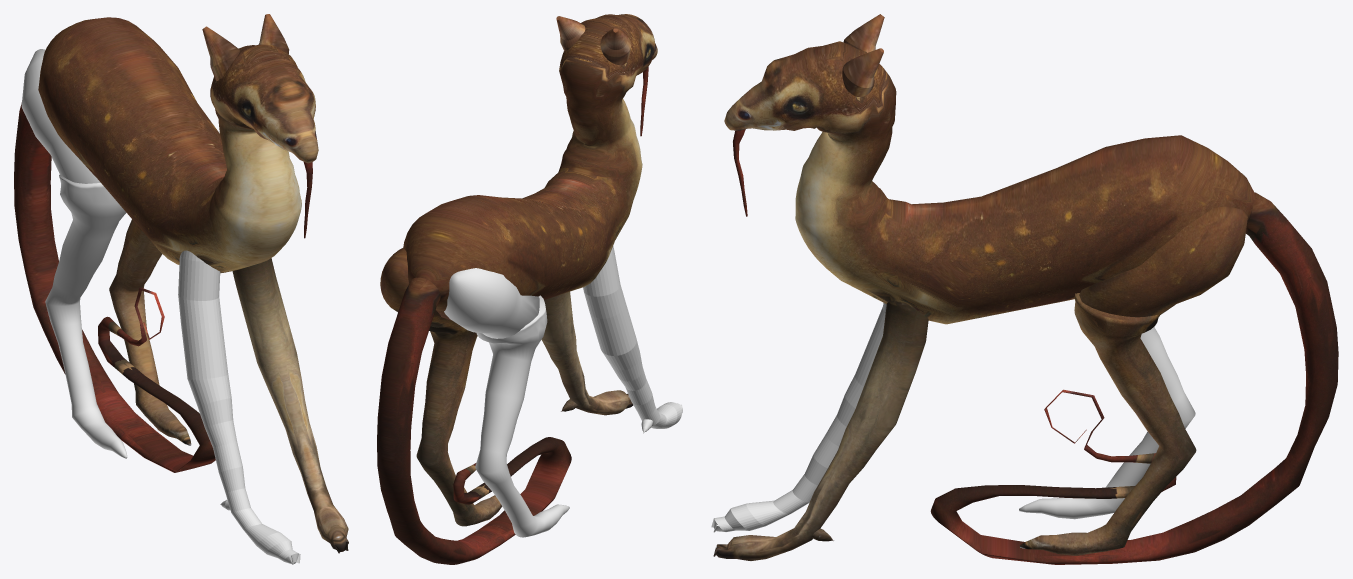
File: liar beast with skin yes.gltf
3 renders of one model, left to right at view 1: azimuth 30°, elevation 25°; view 2: azimuth 150°, elevation 25°; view 3: azimuth 270°, elevation 25°, orthographic. The views are drawn at different scales.
Visible parts, largest first — view 1: Cylinder.003, Cylinder.004, Cylinder.002, Cylinder.001, Cylinder, Cylinder.006, Cylinder.008, Cylinder.007; view 2: Cylinder.003, Cylinder.004, Cylinder.002, Cylinder.006, Cylinder.001, Cylinder, Cylinder.008, Cylinder.007; view 3: Cylinder.003, Cylinder.004, Cylinder.006, Cylinder, Cylinder.001, Cylinder.002, Cylinder.007, Cylinder.008.
Boxes of the visible parts, <box> form: Cylinder.003: <box>38,17,318,273</box>; Cylinder.004: <box>14,102,215,472</box>; Cylinder.002: <box>21,49,127,458</box>; Cylinder.001: <box>178,250,300,564</box>; Cylinder: <box>232,258,348,553</box>; Cylinder.006: <box>109,219,191,445</box>; Cylinder.008: <box>202,26,240,80</box>; Cylinder.007: <box>258,14,289,53</box>; Cylinder.003: <box>403,14,657,320</box>; Cylinder.004: <box>377,277,571,564</box>; Cylinder.002: <box>444,268,569,537</box>; Cylinder.006: <box>380,248,502,526</box>; Cylinder.001: <box>583,246,682,433</box>; Cylinder: <box>541,291,633,415</box>; Cylinder.008: <box>600,28,631,65</box>; Cylinder.007: <box>556,16,585,51</box>; Cylinder.003: <box>724,41,1255,324</box>; Cylinder.004: <box>930,192,1338,564</box>; Cylinder.006: <box>1019,206,1247,555</box>; Cylinder: <box>713,300,928,560</box>; Cylinder.001: <box>711,303,886,532</box>; Cylinder.002: <box>1019,173,1244,519</box>; Cylinder.007: <box>842,48,883,96</box>; Cylinder.008: <box>843,14,884,52</box>.
Bounding box in the file's own units: 1.16 × 4.07 × 4.38.
Materials: 1 (1 with a texture image).
